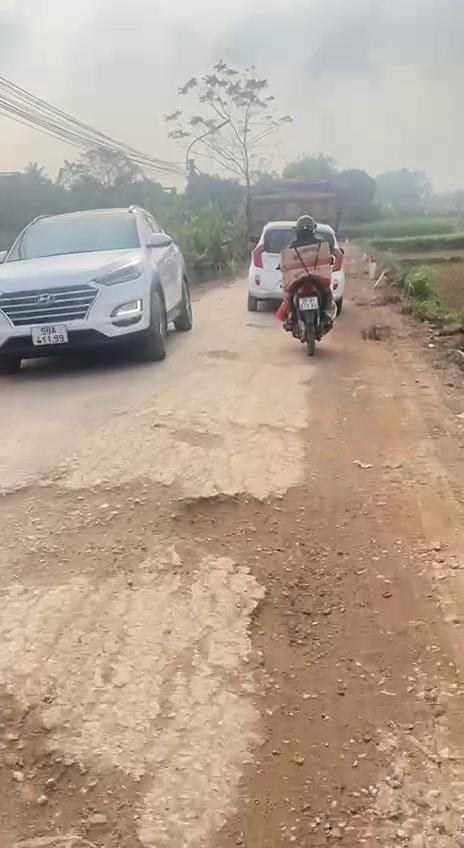pothole: (0, 474, 350, 676), (201, 668, 426, 848), (0, 686, 147, 848)
